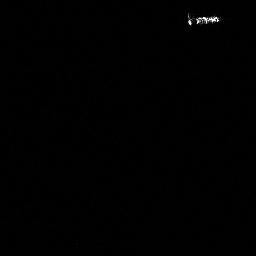ship: (186, 11, 221, 28)
